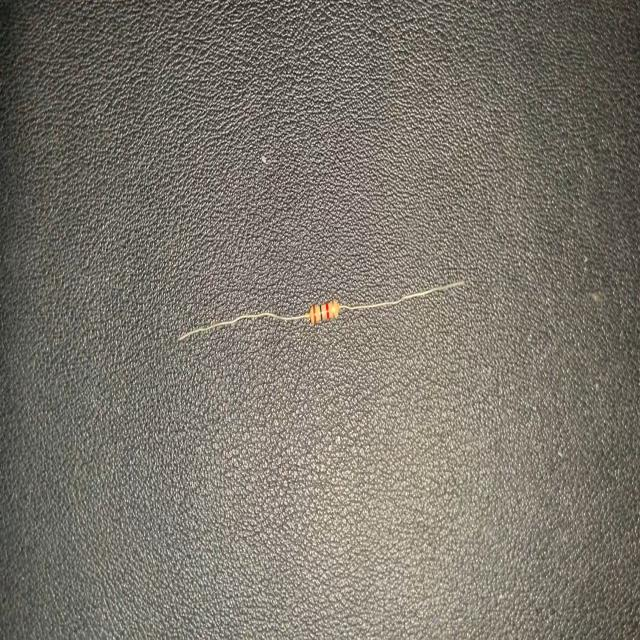resistor: (168, 271, 470, 345)
